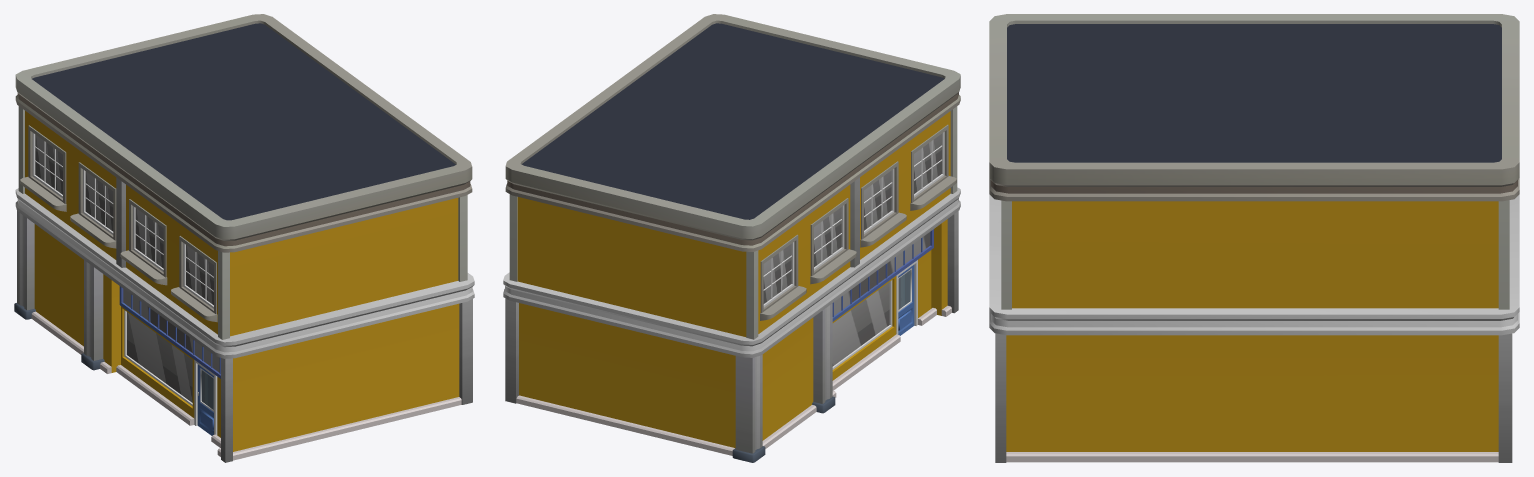
Rendered from Building_11_2_G.fbx.
The picture shows the model from 3 angles, left to right: view 1: azimuth 30°, elevation 25°; view 2: azimuth 150°, elevation 25°; view 3: azimuth 270°, elevation 25°; orthographic projection. The views are drawn at different scales.
Parts seen in each view (by area): view 1: Building_11_2_G; view 2: Building_11_2_G; view 3: Building_11_2_G.
Boxes of the visible parts, bbox=[...] form: Building_11_2_G: bbox=[14, 14, 474, 462]; Building_11_2_G: bbox=[503, 14, 960, 462]; Building_11_2_G: bbox=[989, 14, 1519, 462].
Bounding box in the file's own units: 827 × 714 × 1163.
